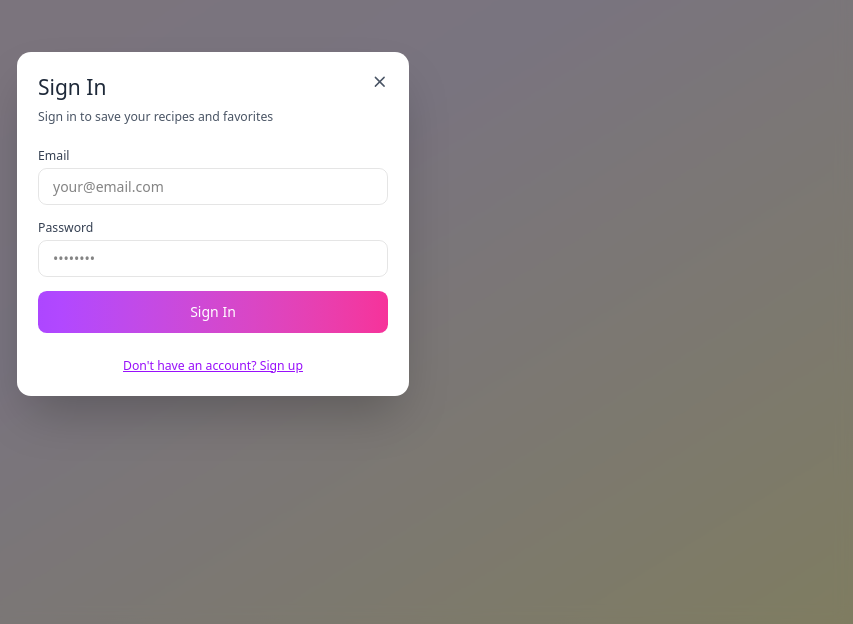
Test: AuthModal › should show nickname field only in signup mode
Expected: the field labelled "nickname" is not shown
Switch to signup mode
Click the button "Don't have an account? Sign up" at x=213, y=366, box [123,357,303,374]
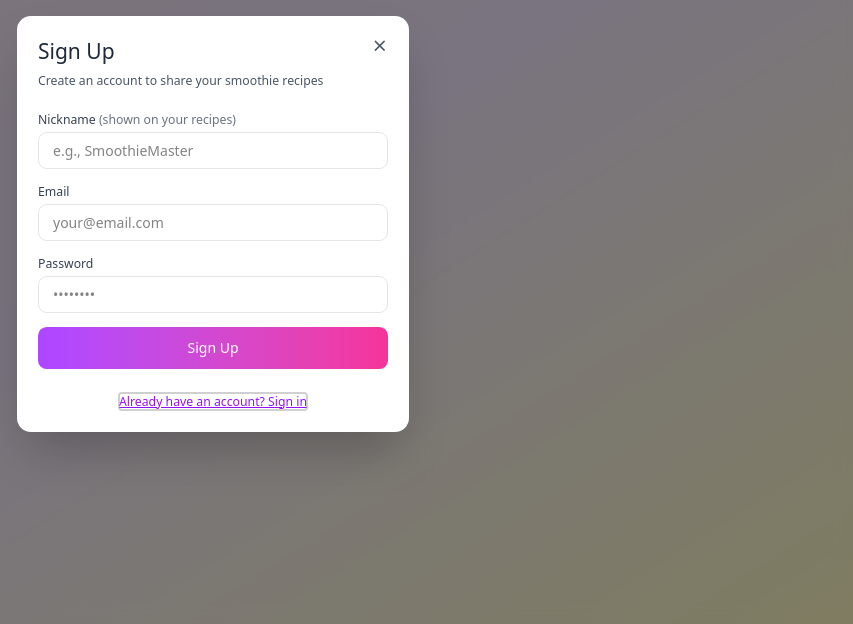
Now the field labelled "Nickname (shown on your recipes)" is shown, box [38,132,388,169]
